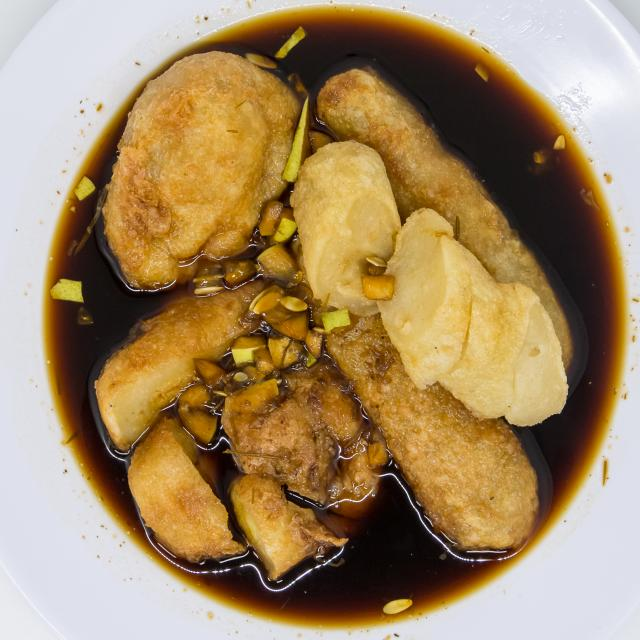Pempek-Palembang: (79, 38, 582, 603)
